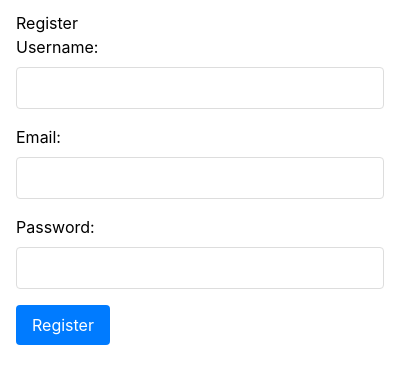
Register Component › shows validation error for short username
Type "ab" into the field labelled "Username:" at (200, 88), box [16, 67, 384, 109]
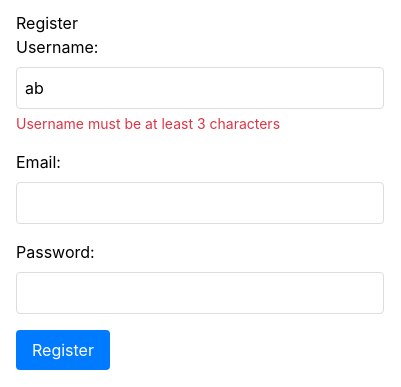
Expected: the text "Username must be at least 3 characters" is shown, [16, 115, 280, 132]
